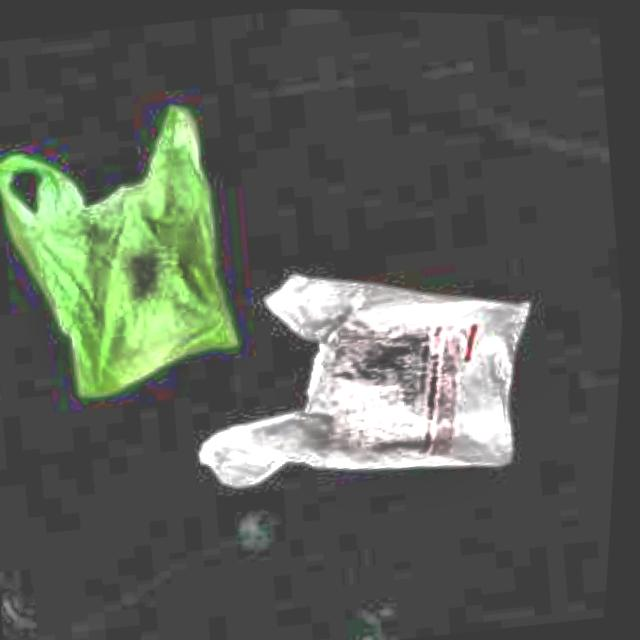Plastic: (169, 213, 563, 535), (0, 92, 271, 415)
